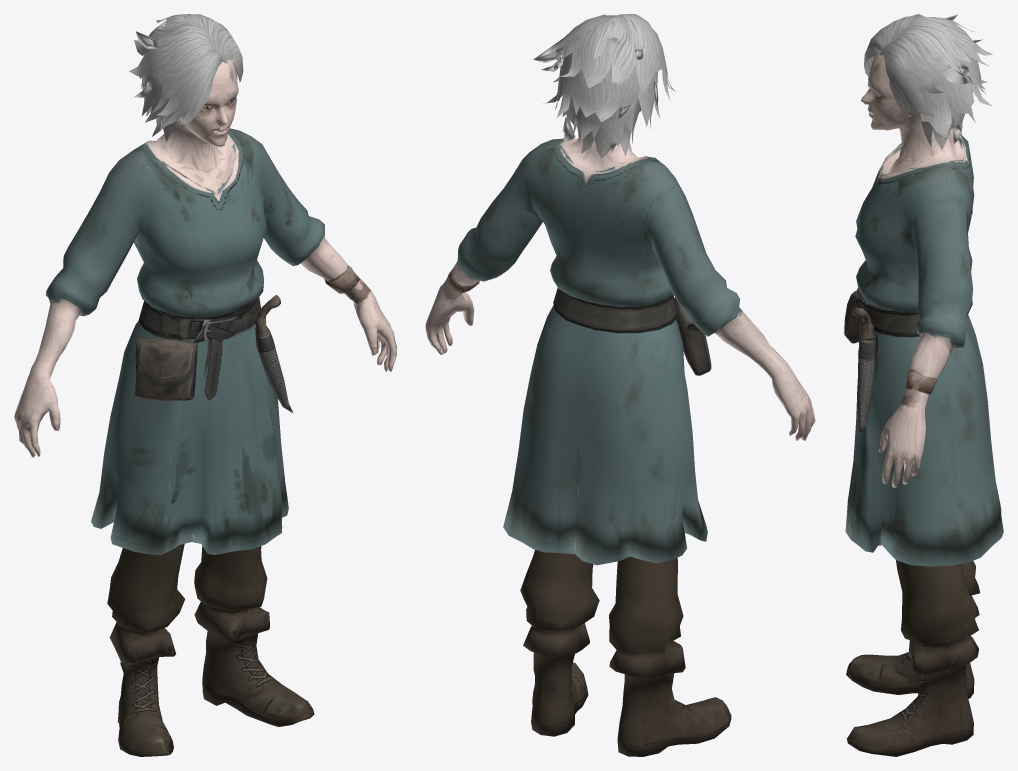
Rendered from Meshy_AI_The_Withered_Wanderer_0915200452_texture.obj.
3 views of the same model, side by side, from view 1: azimuth 30°, elevation 25°; view 2: azimuth 150°, elevation 25°; view 3: azimuth 270°, elevation 25° (orthographic). The views are drawn at different scales.
Parts seen in each view (by area): view 1: Meshy_AI_The_Withered_Wanderer_0915200452_texture; view 2: Meshy_AI_The_Withered_Wanderer_0915200452_texture; view 3: Meshy_AI_The_Withered_Wanderer_0915200452_texture.
Boxes of the visible parts, x1,y1,x2,y2 form: Meshy_AI_The_Withered_Wanderer_0915200452_texture: (14,14,396,756); Meshy_AI_The_Withered_Wanderer_0915200452_texture: (425,14,815,756); Meshy_AI_The_Withered_Wanderer_0915200452_texture: (844,14,1003,756).
Size of the model in its own units: 0.5566 by 1 by 0.2085.
